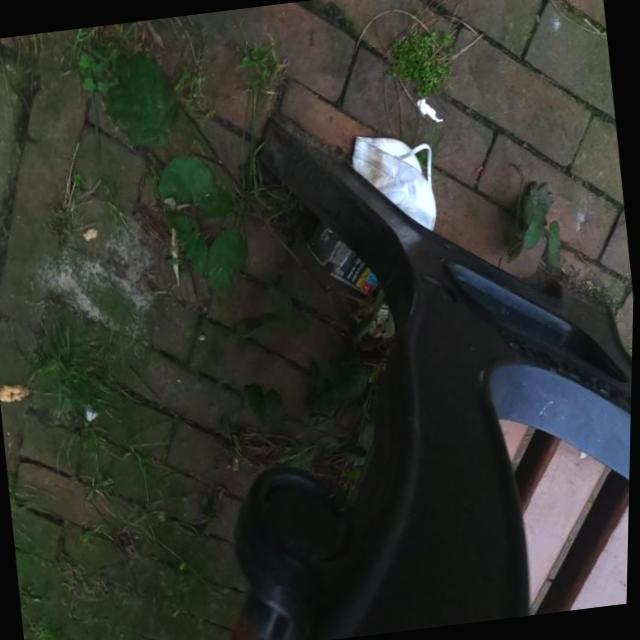Mask: (343, 122, 443, 240)
Paper: (301, 207, 385, 305)
